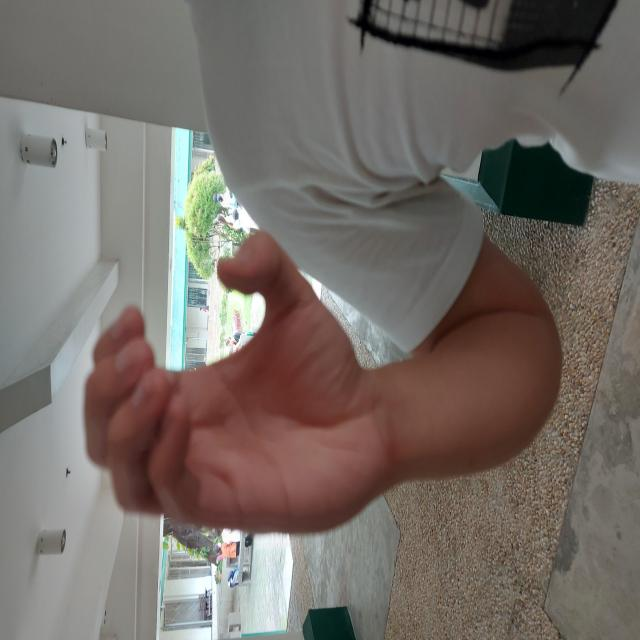C: (101, 80, 412, 391)
